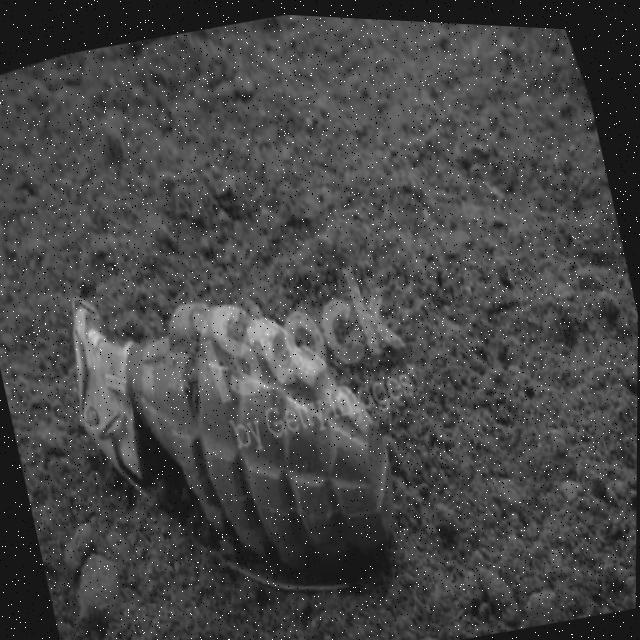grenade: (27, 188, 449, 640)
